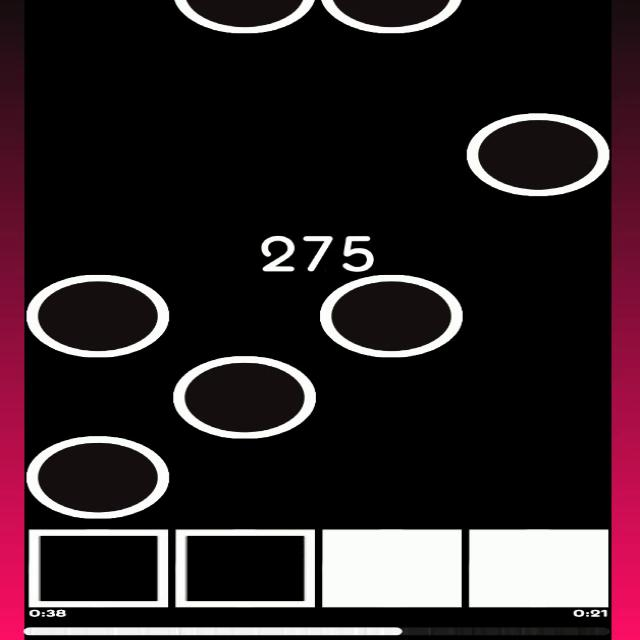note: (468, 111, 612, 196), (26, 435, 170, 520), (26, 275, 172, 358), (323, 276, 466, 357), (175, 357, 316, 439), (172, 0, 316, 39), (320, 0, 466, 38)
